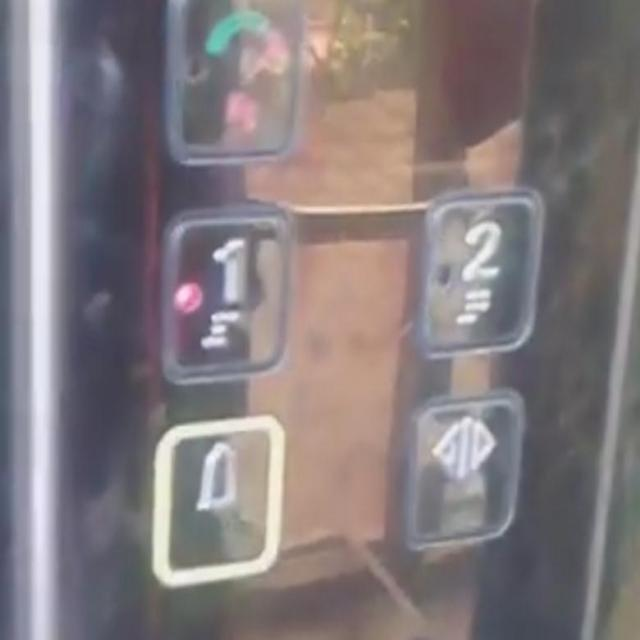1: (157, 201, 289, 385)
2: (412, 184, 545, 360)
alarm: (149, 410, 287, 590)
blur: (162, 0, 296, 169)
open: (400, 385, 526, 554)
